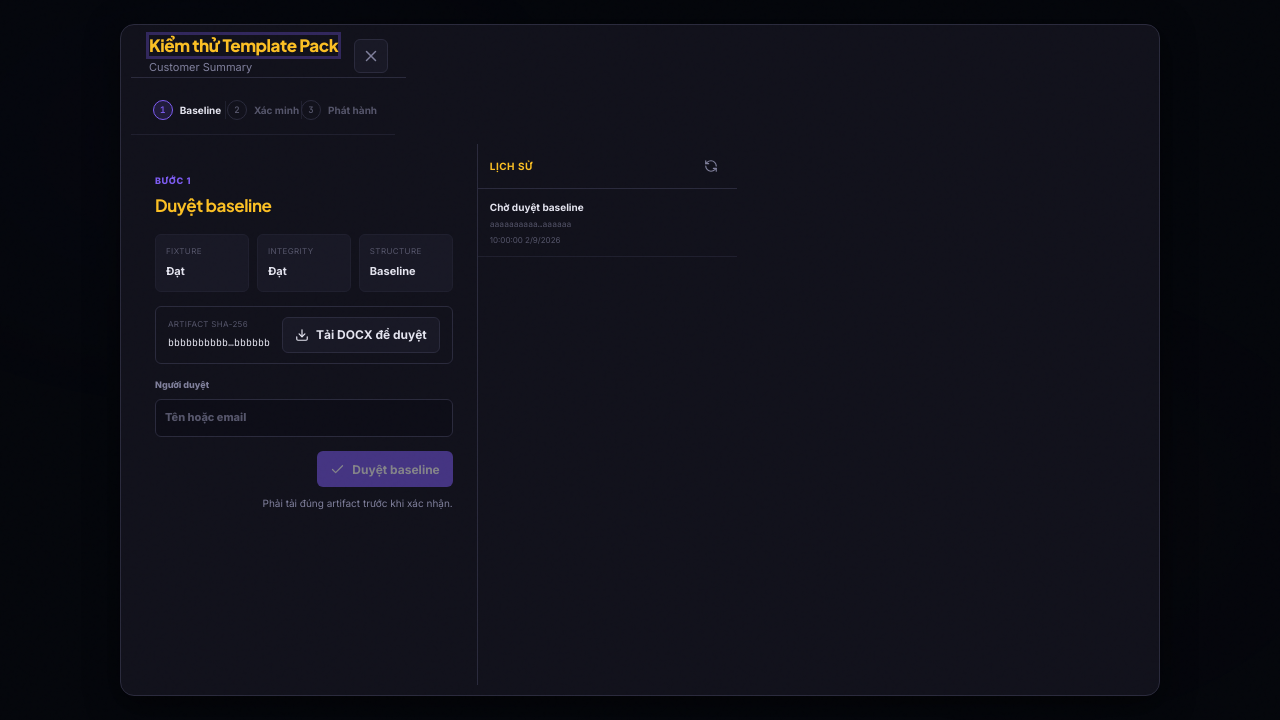
it: Template Studio two-pass validation dialog › blocks approval when the downloaded artifact checksum differs
Expected: the heading "Duyệt baseline" is shown, [155,194,272,216]
Type "reviewer@example.test" into the field labelled "Người duyệt" at (304, 418), box [155,399,453,437]
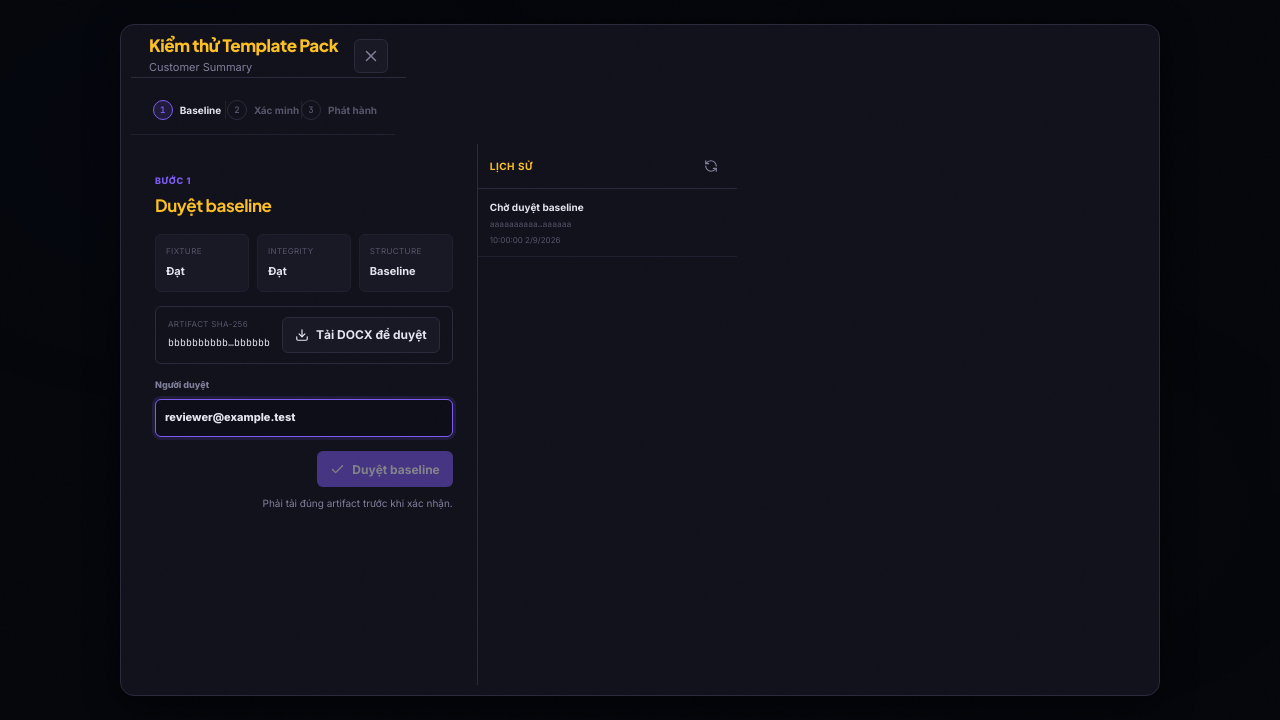
Click the button "Tải DOCX để duyệt" at (361, 335), box [282,317,440,353]
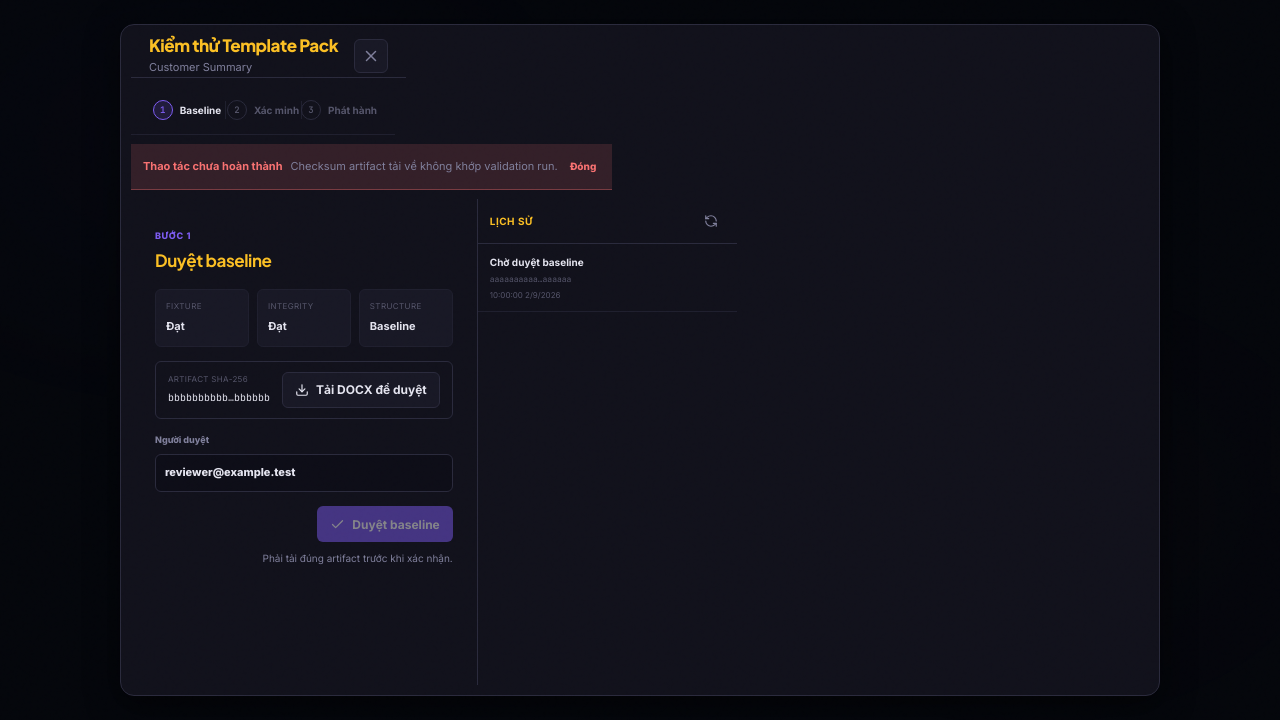
Expected: the button "Duyệt baseline" is disabled, [317,506,453,542]
Expected: the message shows "Checksum artifact tải về không khớp", [291,158,558,172]
